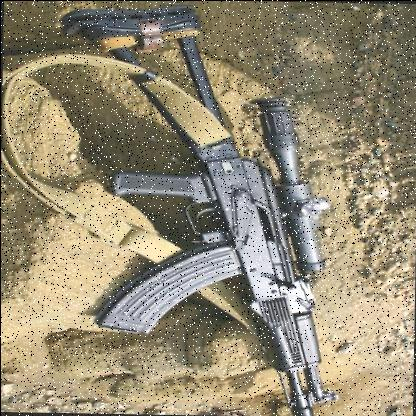rifle: (90, 6, 347, 416)
